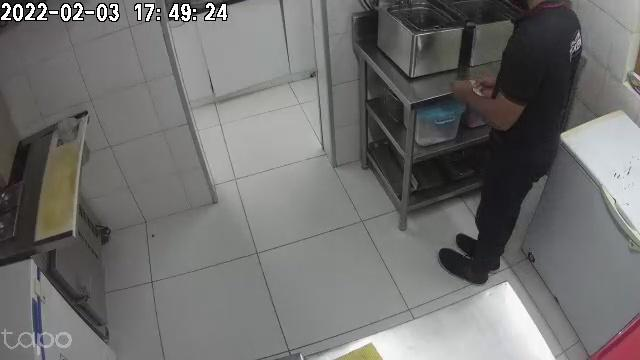no_gloves: (450, 79, 482, 111)
